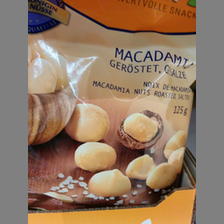nuts: (28, 1, 195, 210)
